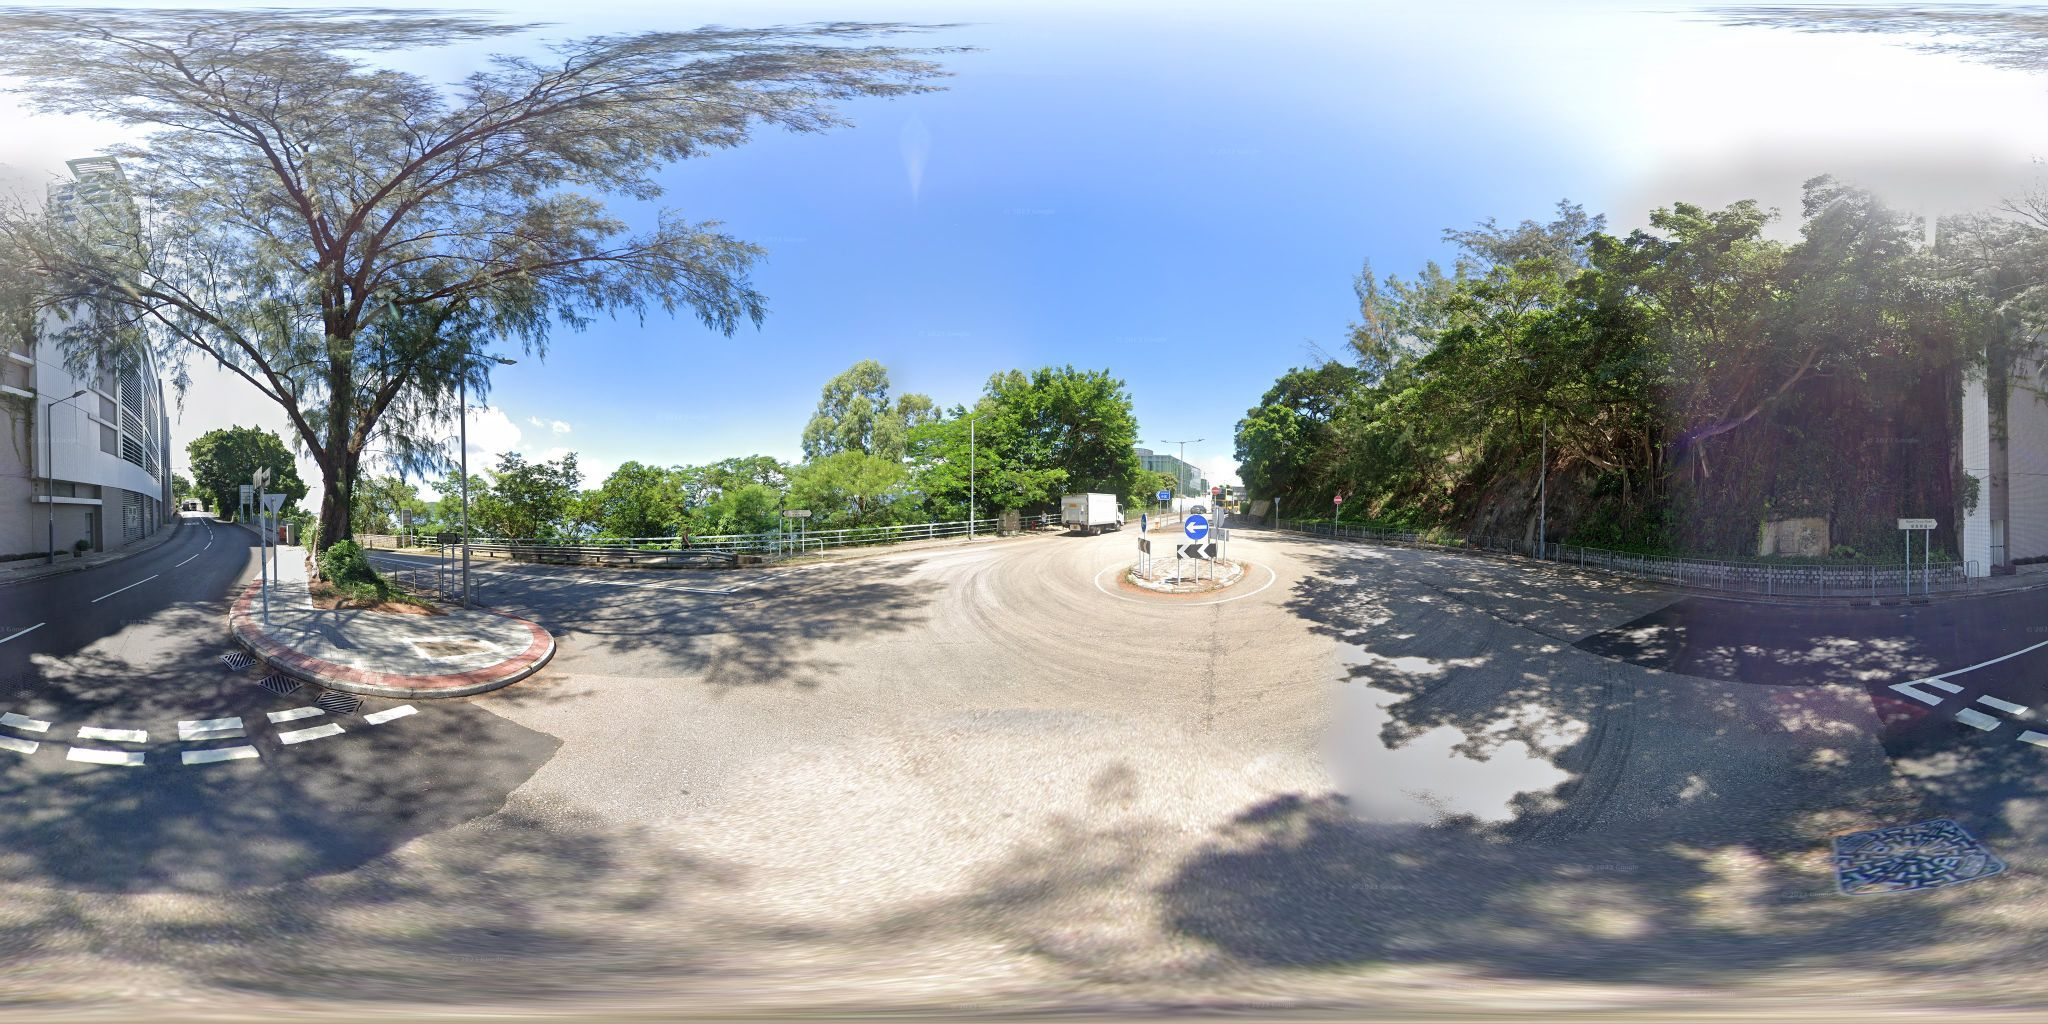SL: (453, 347, 521, 372)
